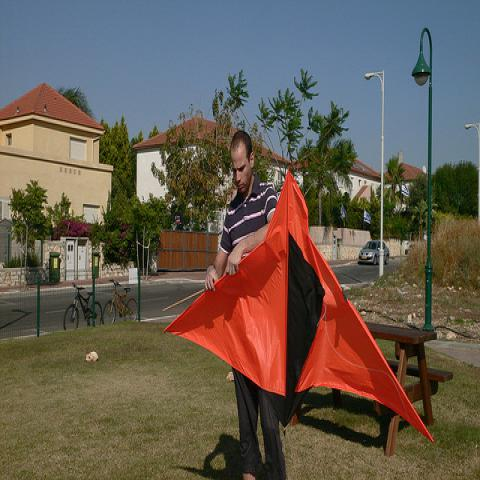car: (358, 240, 390, 264)
